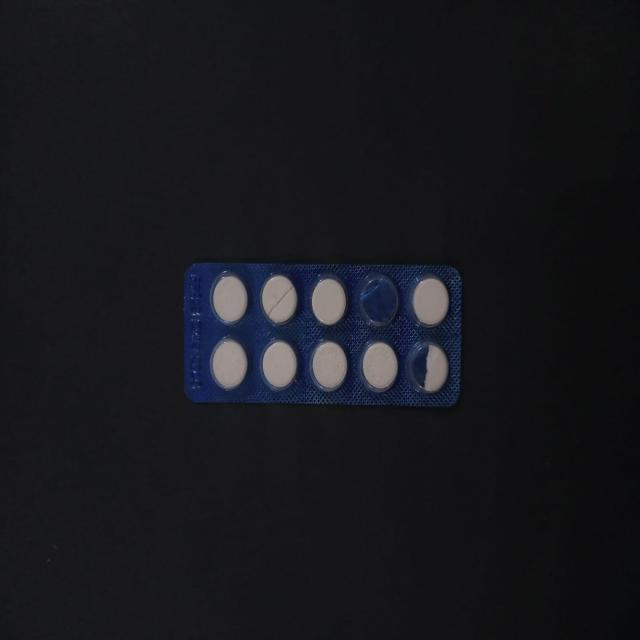defect: (403, 336, 452, 398), (356, 269, 403, 329), (258, 269, 300, 328)
